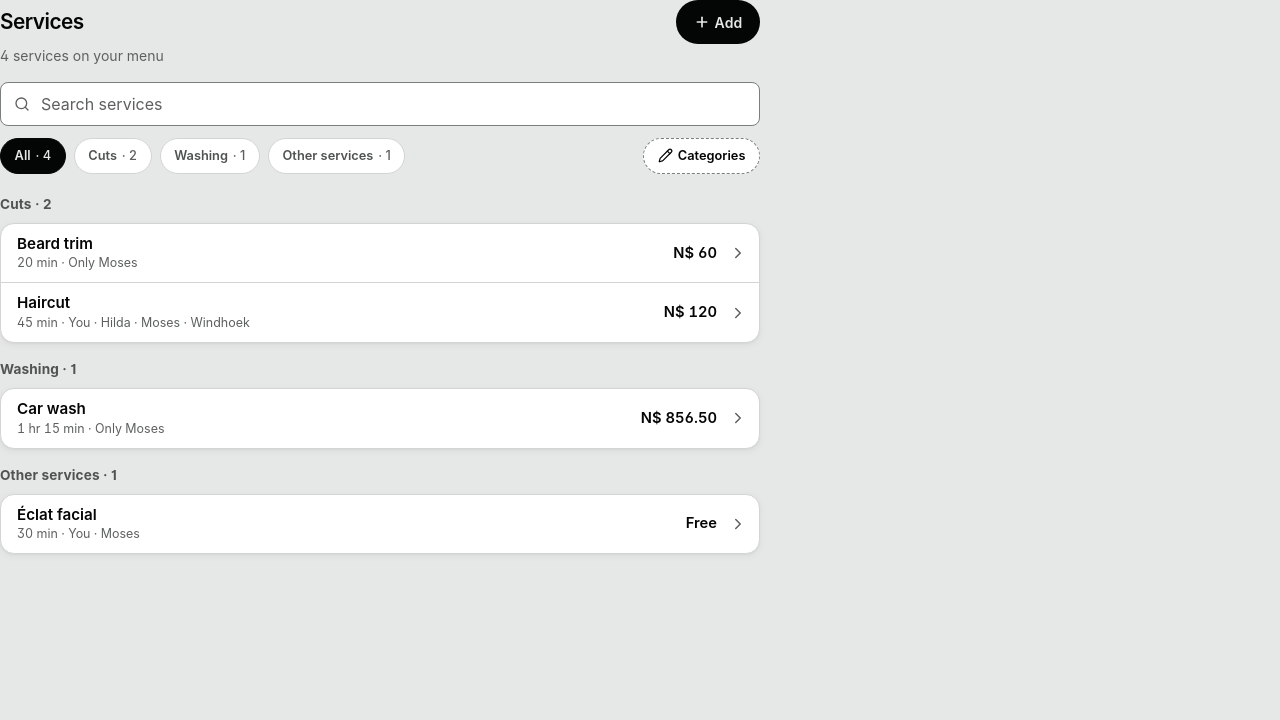
it: ServiceMenu — the owner › manages categories in a sheet: every category with its count, add, delete, Escape closes
Click the button "Categories".
click(702, 156)  # box [643,138,760,174]
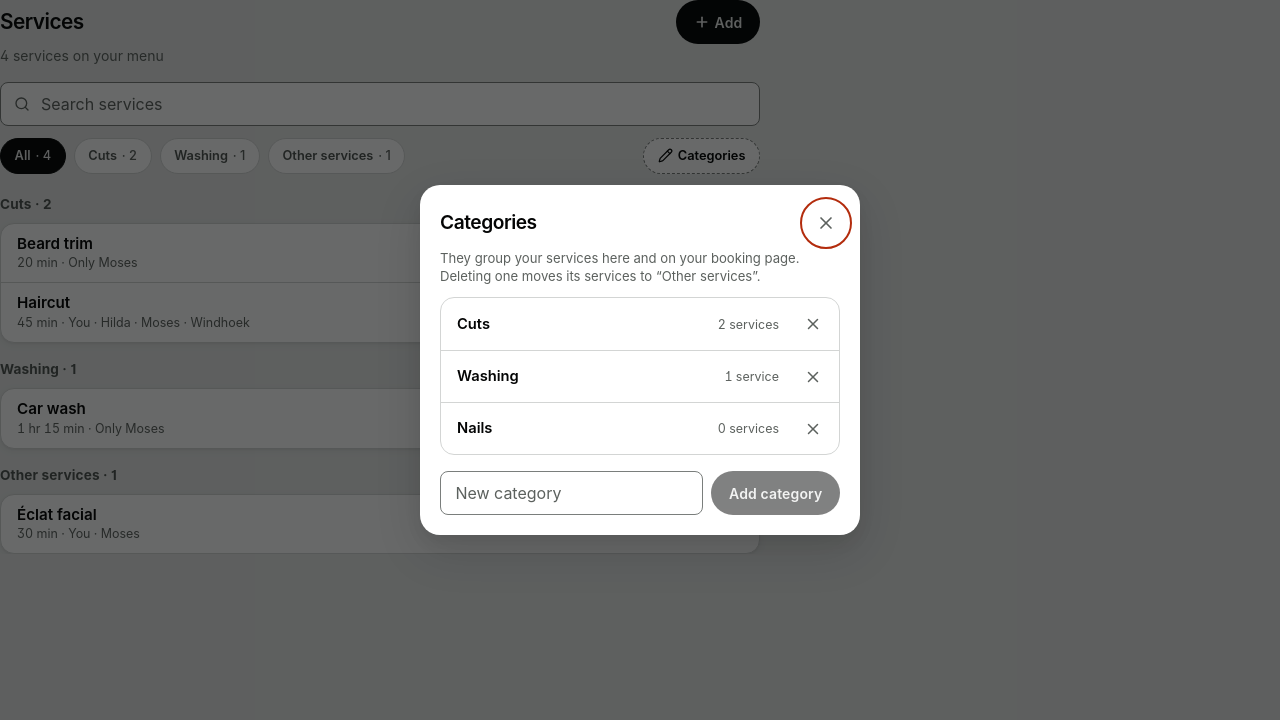
Result: the elements with test id "category-row" read "Cuts2 services", "Washing1 service", "Nails0 services", in this order at [441,298,839,350]; [441,350,839,402]; [441,402,839,454]
Type "  Colour " into the field named "New category name".
click(572, 493); type("  Colour ")  # box [440,471,703,515]
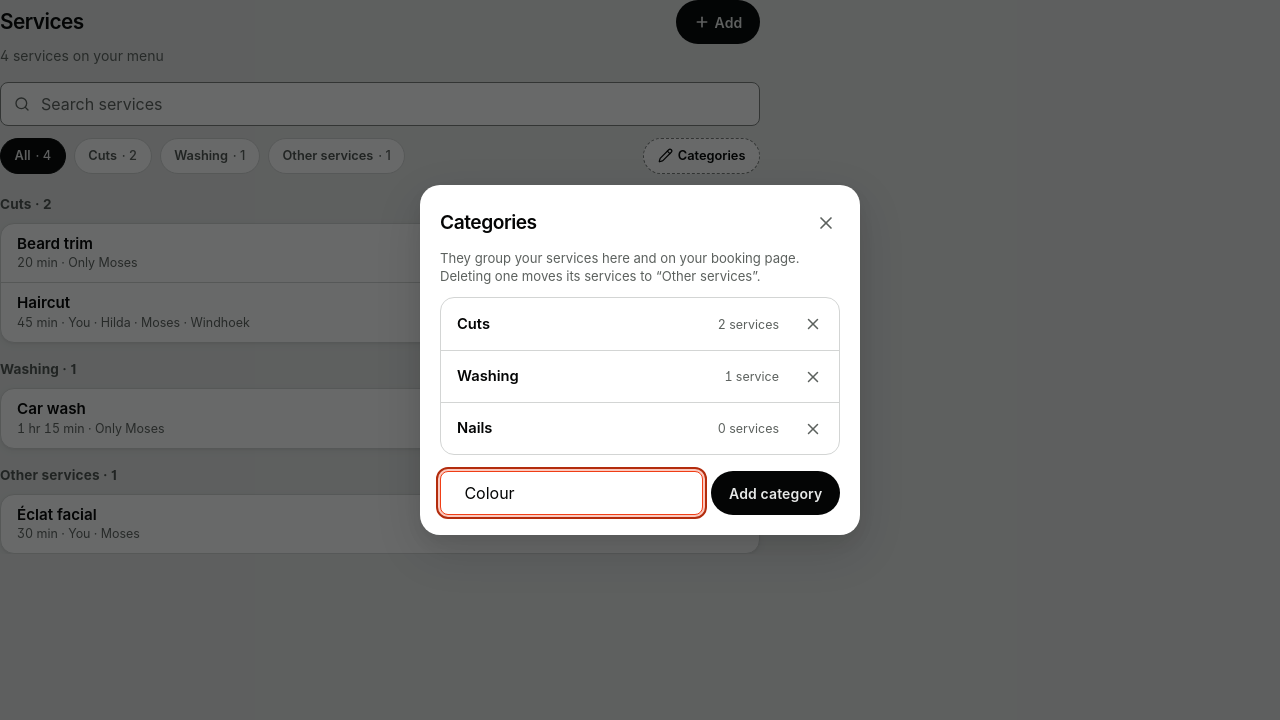
Click the button "Add category".
click(776, 493)  # box [711,471,840,515]
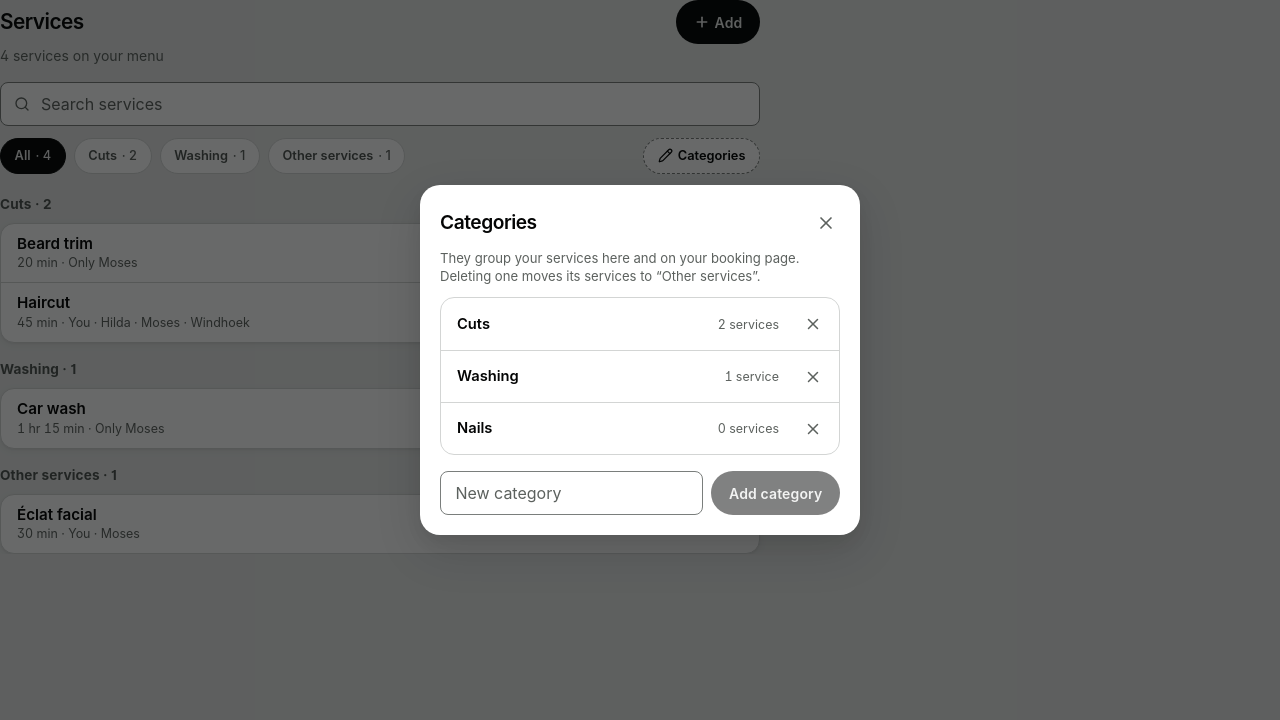
Result: the field named "New category name" is empty at [440,471,703,515]
Click the button named "Delete Nails".
click(813, 429)  # box [791,407,835,451]
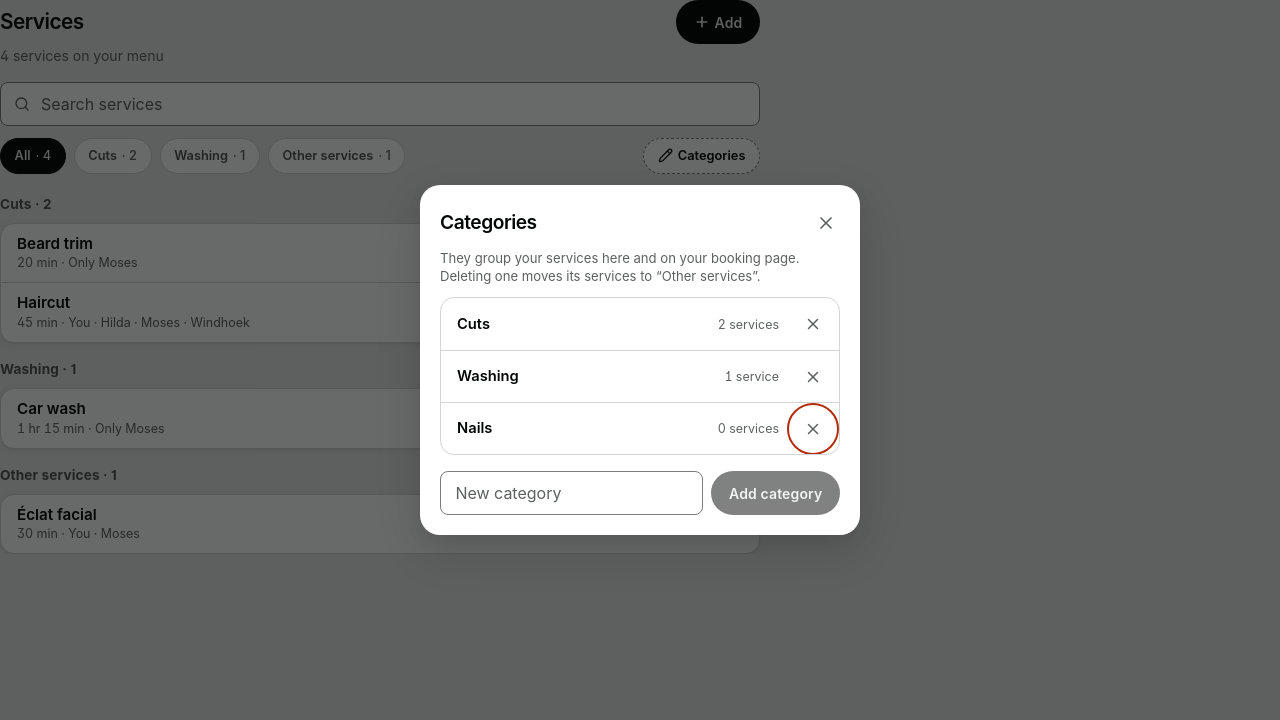
Press Escape
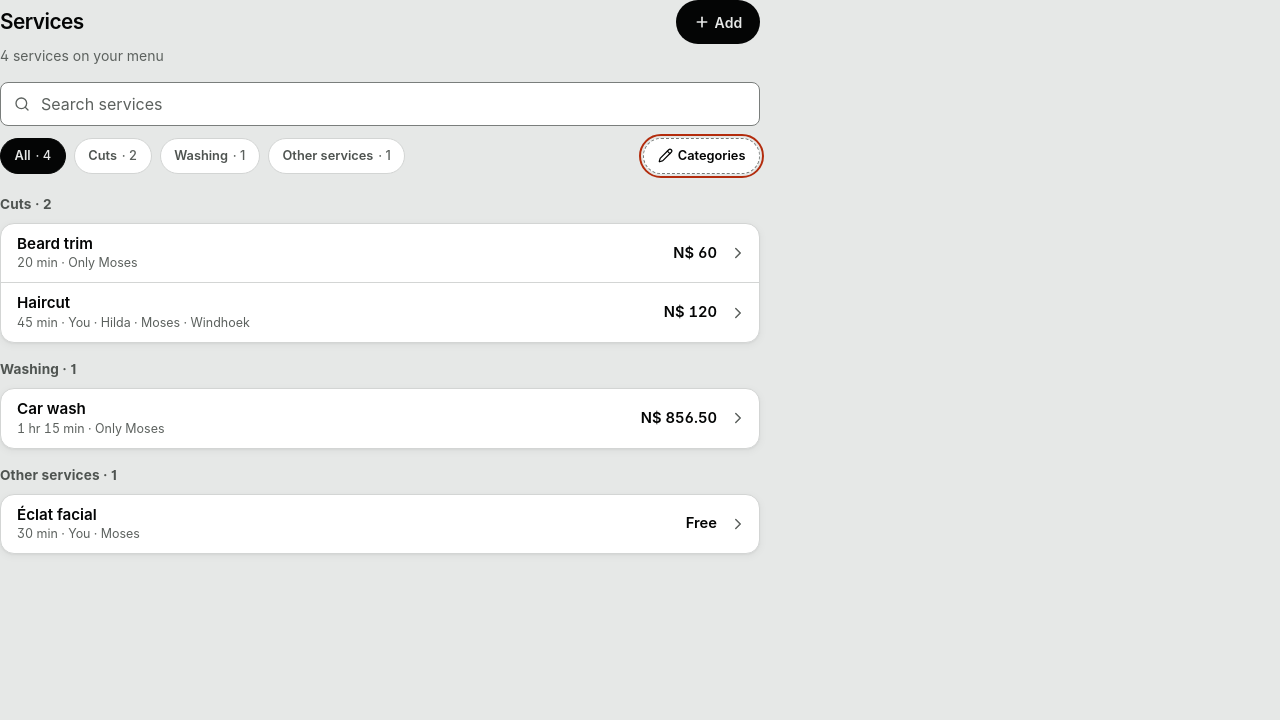
Result: the dialog is gone
